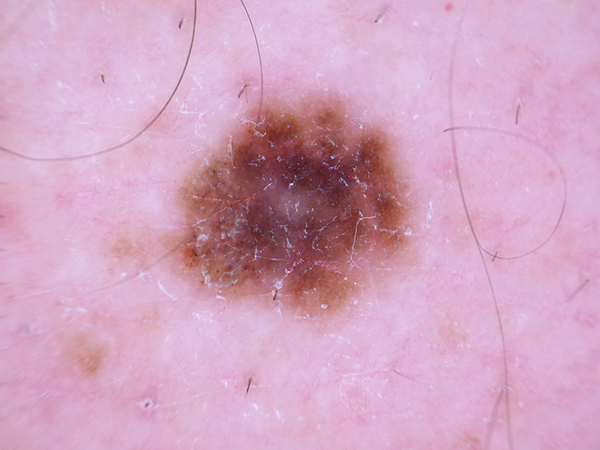Detected Lesion: (170, 91, 417, 329)
